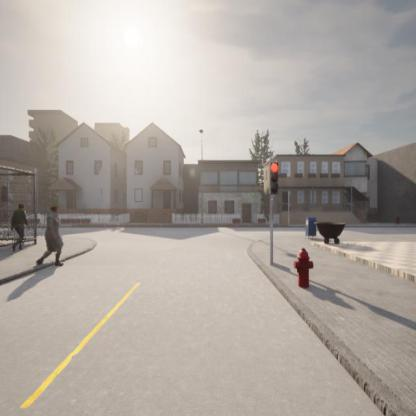person: (38, 205, 65, 266), (10, 202, 28, 252)
traffic_light_red: (269, 162, 278, 193)
